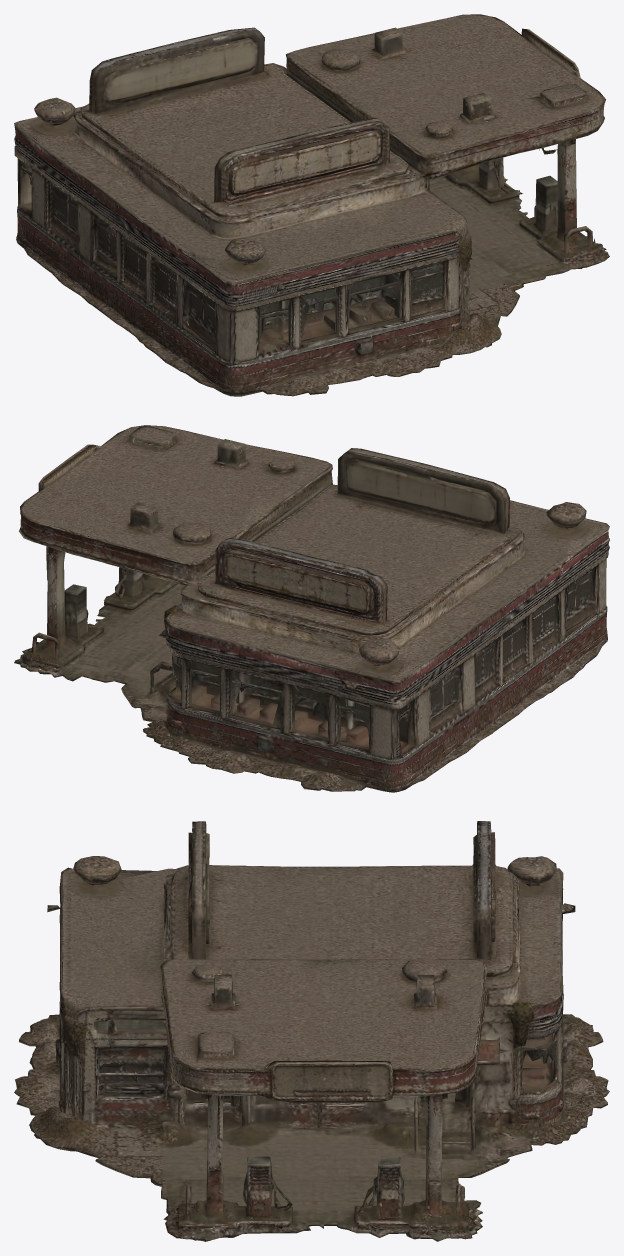
The model's file is tripo_convert_a7fc3c9a-bb3a-47e6-9209-a9125b03a76b.fbx.
3 views of the same model, one above another, from view 1: azimuth 30°, elevation 25°; view 2: azimuth 150°, elevation 25°; view 3: azimuth 270°, elevation 25° (orthographic). The views are drawn at different scales.
Visible parts, largest first — view 1: tripo_node_a7fc3c9a; view 2: tripo_node_a7fc3c9a; view 3: tripo_node_a7fc3c9a.
Part boxes in pixels (left/top/right/bottom): tripo_node_a7fc3c9a: left=14, top=14, right=609, bottom=396; tripo_node_a7fc3c9a: left=14, top=425, right=609, bottom=792; tripo_node_a7fc3c9a: left=14, top=821, right=609, bottom=1241.
Size of the model in its own units: 0.9613 by 0.3808 by 0.9603.
Materials: 1 (1 with a texture image).
